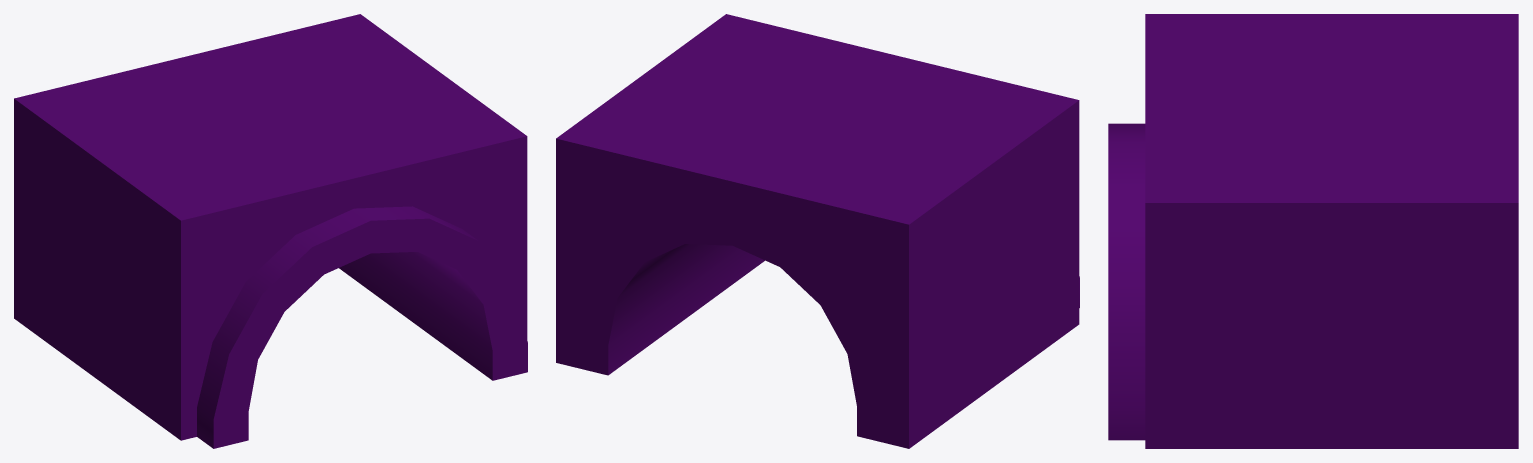
The model's file is TunnelMesh.fbx.
3 views of the same model, side by side, from view 1: azimuth 30°, elevation 25°; view 2: azimuth 150°, elevation 25°; view 3: azimuth 270°, elevation 25° (orthographic). The views are drawn at different scales.
Parts seen in each view (by area): view 1: TunnelEntrance_MESH; view 2: TunnelEntrance_MESH; view 3: TunnelEntrance_MESH.
Boxes of the visible parts, x1,y1,x2,y2 form: TunnelEntrance_MESH: [14, 14, 527, 448]; TunnelEntrance_MESH: [556, 14, 1079, 448]; TunnelEntrance_MESH: [1108, 14, 1518, 448].
Size of the model in its own units: 5.71 by 3.46 by 5.24.
